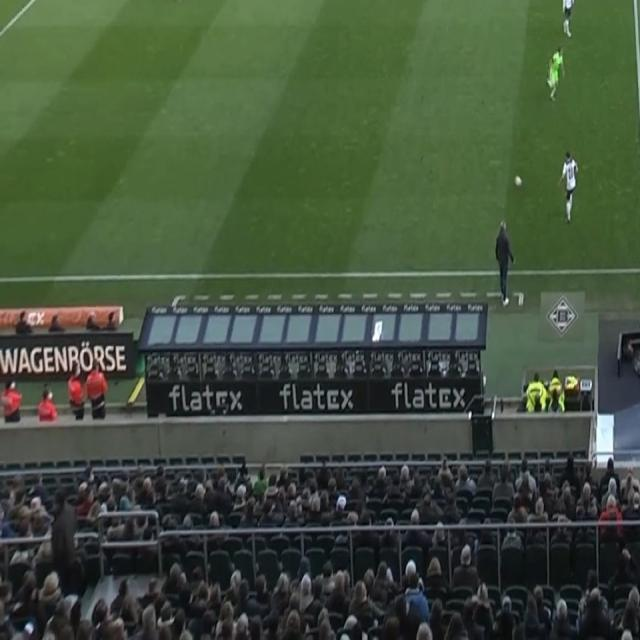ball: (514, 174, 523, 189)
